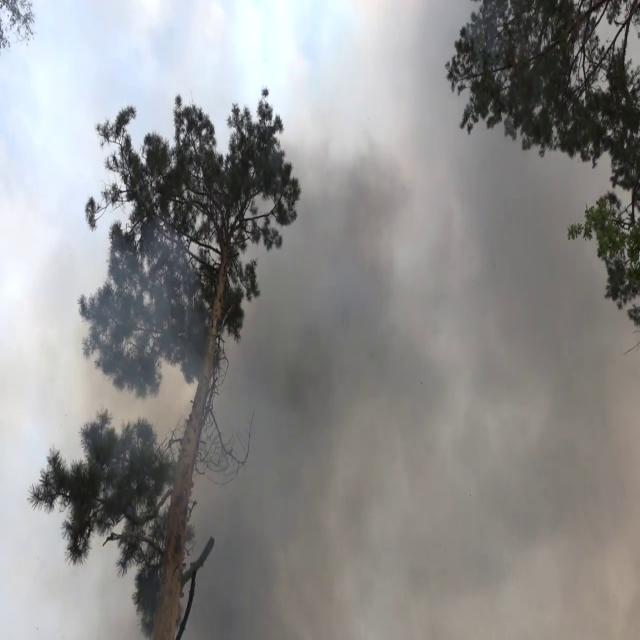Smoke: (158, 18, 639, 640)
